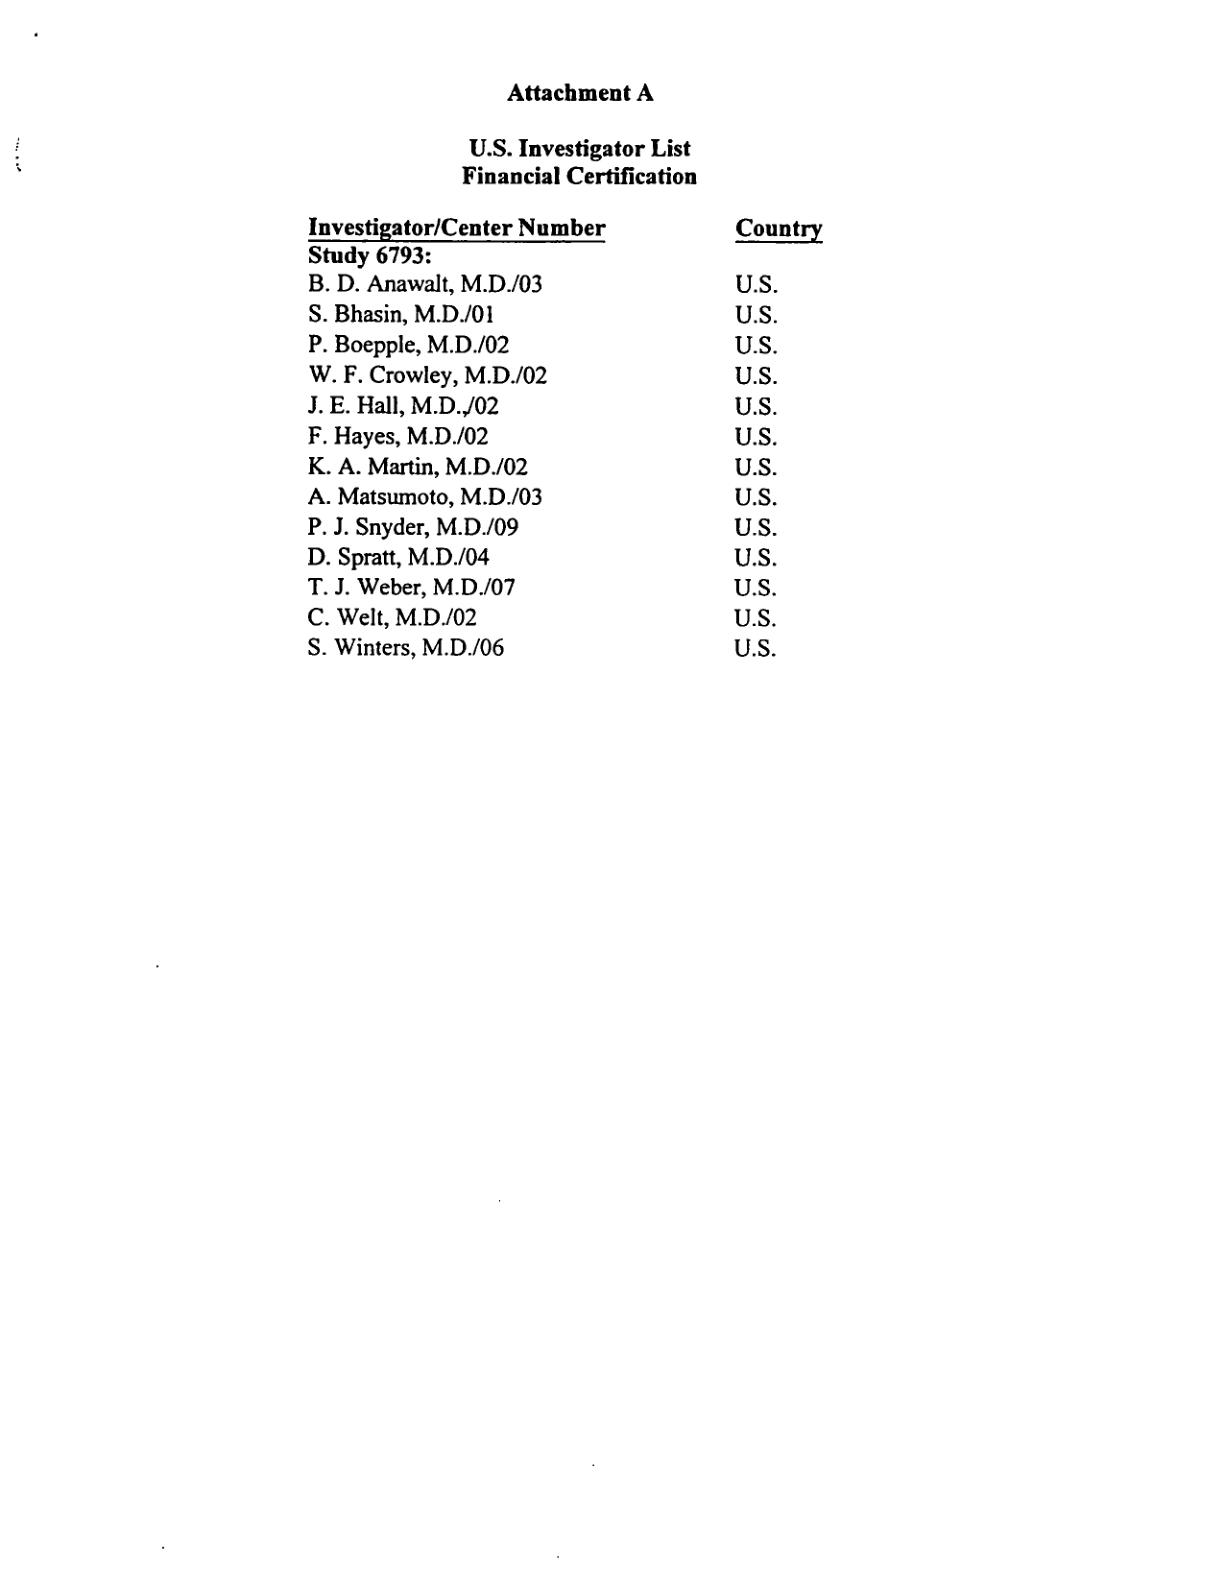nolines: (299, 214, 829, 665)
